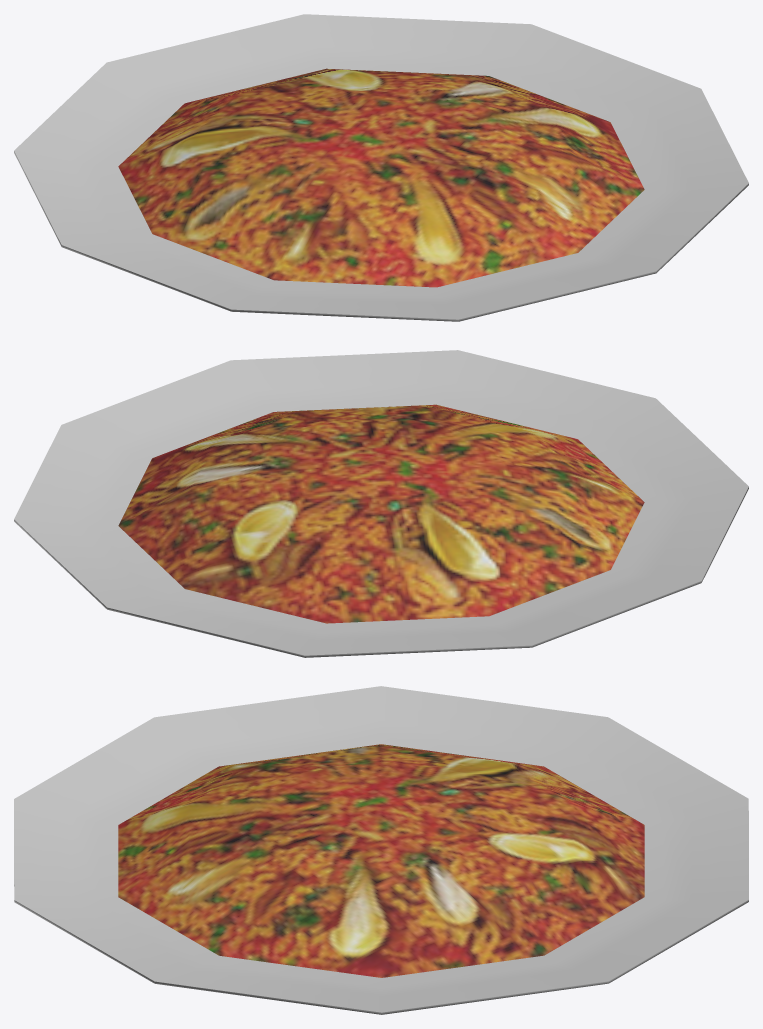
Rendered from prop_foodmenu03.fbx.
3 views of the same model, one above another, from view 1: azimuth 30°, elevation 25°; view 2: azimuth 150°, elevation 25°; view 3: azimuth 270°, elevation 25° (orthographic). The views are drawn at different scales.
Visible parts, largest first — view 1: prop_foodmenu03; view 2: prop_foodmenu03; view 3: prop_foodmenu03.
Boxes of the visible parts, <box> form: prop_foodmenu03: <box>14,14,748,321</box>; prop_foodmenu03: <box>14,350,748,657</box>; prop_foodmenu03: <box>14,686,748,1014</box>.
Size of the model in its own units: 0.3638 by 0.035 by 0.346.
